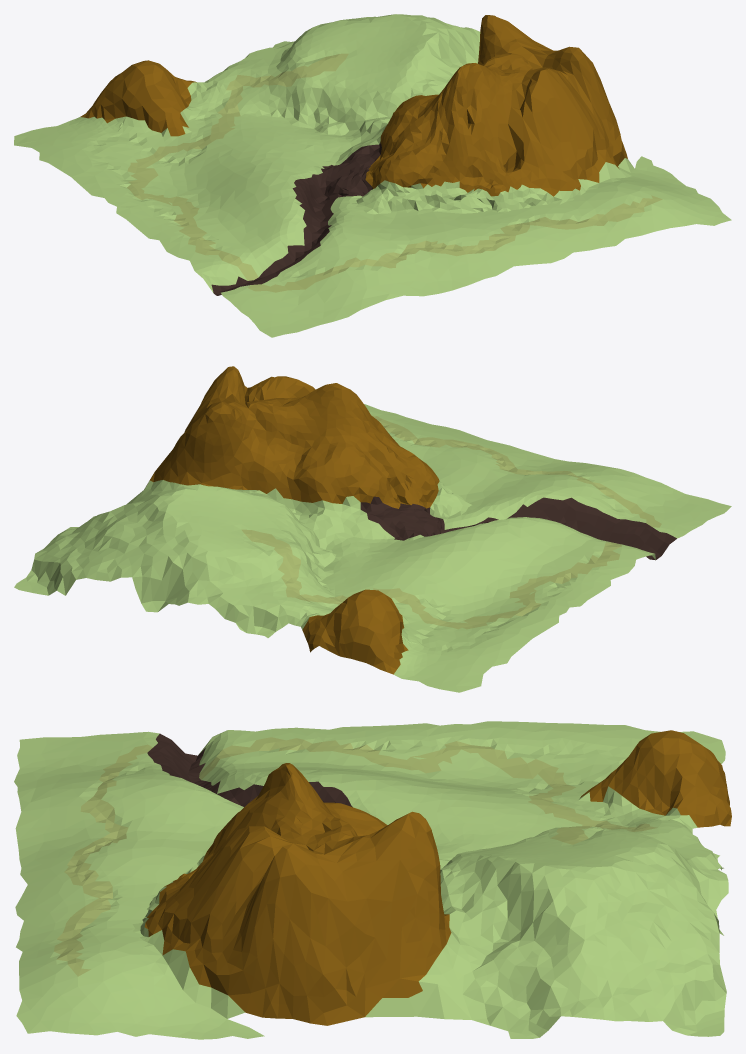
File: terrain2.glb
3 renders of one model, top to bottom at view 1: azimuth 30°, elevation 25°; view 2: azimuth 150°, elevation 25°; view 3: azimuth 270°, elevation 25°, orthographic. The views are drawn at different scales.
Visible parts, largest first — view 1: Plane; view 2: Plane; view 3: Plane.
Boxes of the visible parts, bbox=[...] form: Plane: bbox=[14, 14, 731, 337]; Plane: bbox=[14, 366, 731, 692]; Plane: bbox=[14, 721, 731, 1039].
Bounding box in the file's own units: 2 × 0.551 × 2.01.
